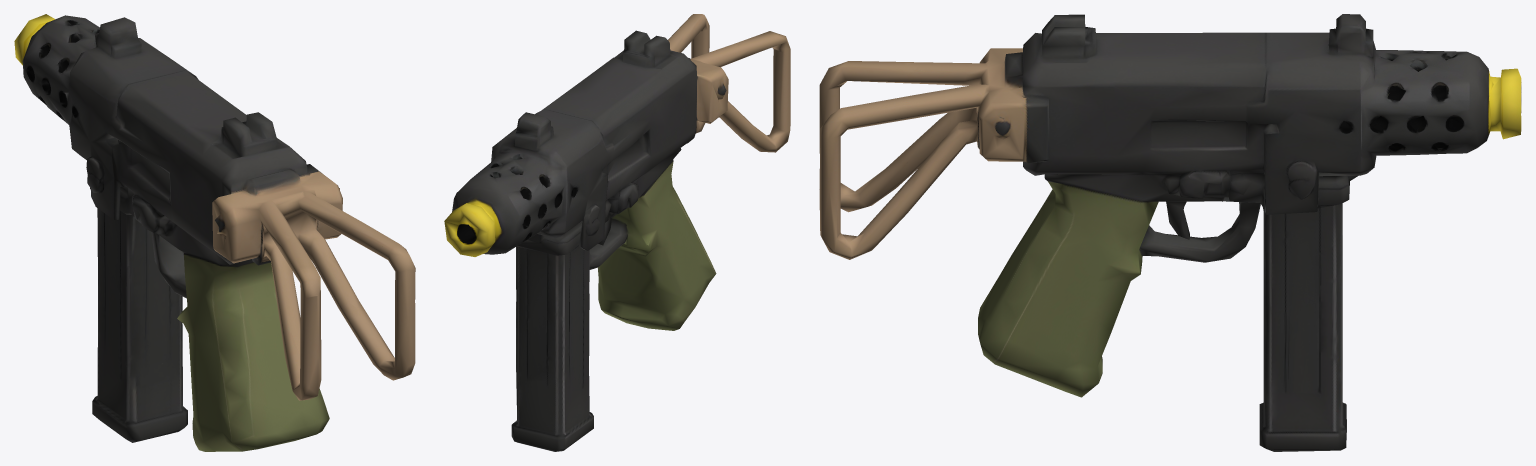
Rendered from buzz_tripo_raw.glb.
The picture shows the model from 3 angles, left to right: view 1: azimuth 30°, elevation 25°; view 2: azimuth 150°, elevation 25°; view 3: azimuth 270°, elevation 25°; orthographic projection. The views are drawn at different scales.
Visible parts, largest first — view 1: tripo_node_e672943f-c065-4fa9-9bf5-27ea34df217d; view 2: tripo_node_e672943f-c065-4fa9-9bf5-27ea34df217d; view 3: tripo_node_e672943f-c065-4fa9-9bf5-27ea34df217d.
Boxes of the visible parts, x1,y1,x2,y2 form: tripo_node_e672943f-c065-4fa9-9bf5-27ea34df217d: [14, 14, 415, 451]; tripo_node_e672943f-c065-4fa9-9bf5-27ea34df217d: [444, 14, 790, 451]; tripo_node_e672943f-c065-4fa9-9bf5-27ea34df217d: [819, 14, 1521, 451].
Size of the model in its own units: 0.2177 by 0.6579 by 1.
Materials: 1 (1 with a texture image).
